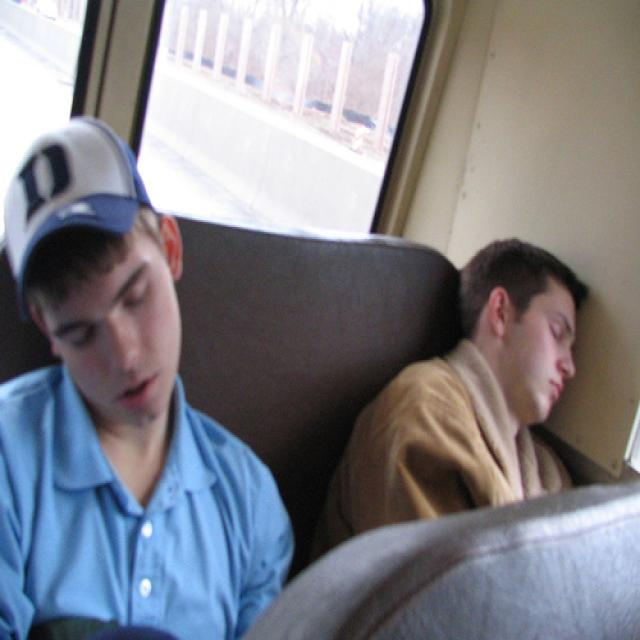person: (1, 115, 290, 639), (323, 238, 593, 554)
